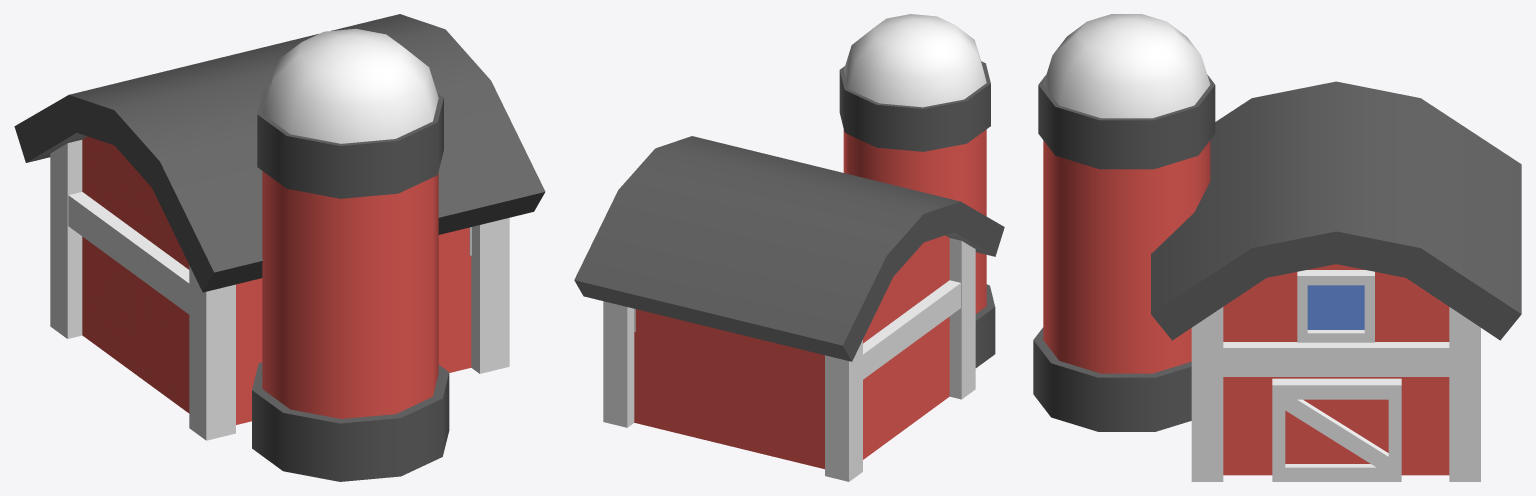
Rendered from Barn.fbx.
3 views of the same model, side by side, from view 1: azimuth 30°, elevation 25°; view 2: azimuth 150°, elevation 25°; view 3: azimuth 270°, elevation 25° (orthographic). The views are drawn at different scales.
Parts seen in each view (by area): view 1: Barn; view 2: Barn; view 3: Barn.
Part boxes in pixels (x1,y1,x2,y2): Barn: [14, 14, 545, 481]; Barn: [574, 14, 1004, 481]; Barn: [1033, 14, 1521, 481].
Size of the model in its own units: 449 by 513 by 617.
